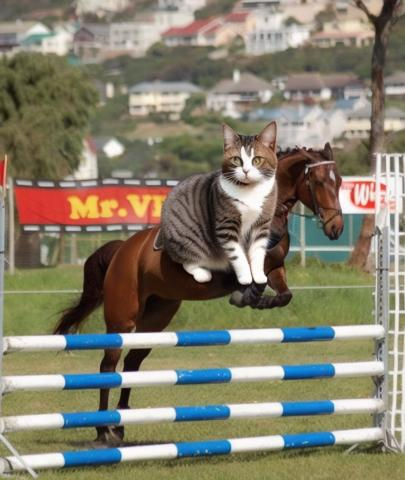cat: (159, 117, 279, 284)
horse: (60, 143, 348, 450)
